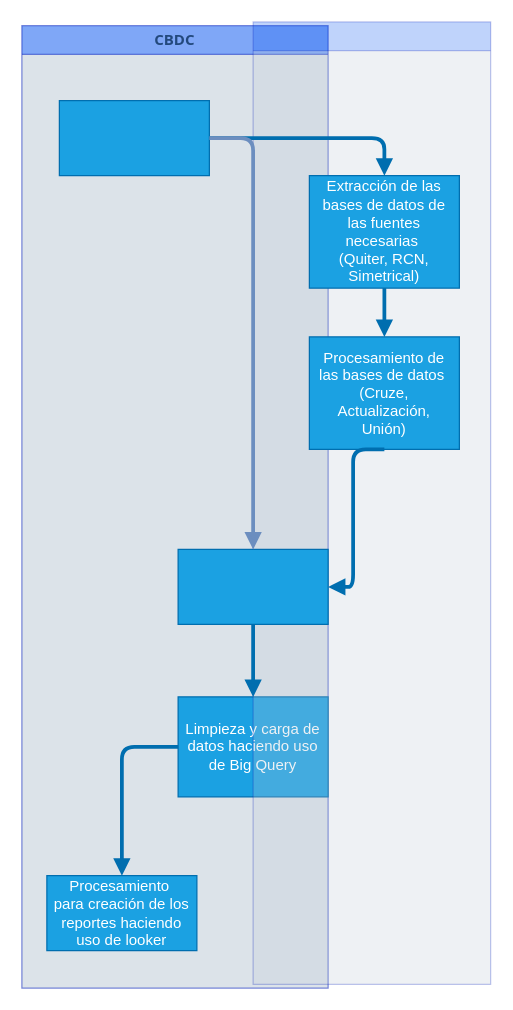
Some shapes in this 513 by 1010 pixel diagram are drawn without their labels. Here are the shapes that lost their labels. From the top down, the box of each, then its label:
(58, 99, 209, 176): Identificación de los principales procesos y las tablas necesarias
(252, 21, 491, 984): Analista de datos
(177, 548, 328, 624): Verificación de las tablas generadas y subida a Google cloud storage
